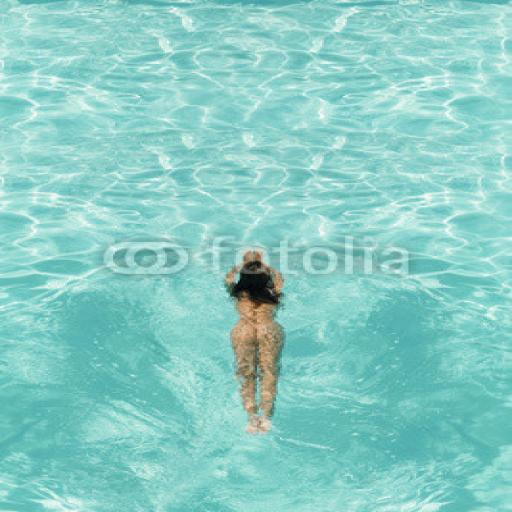swimming: (216, 247, 292, 437)
